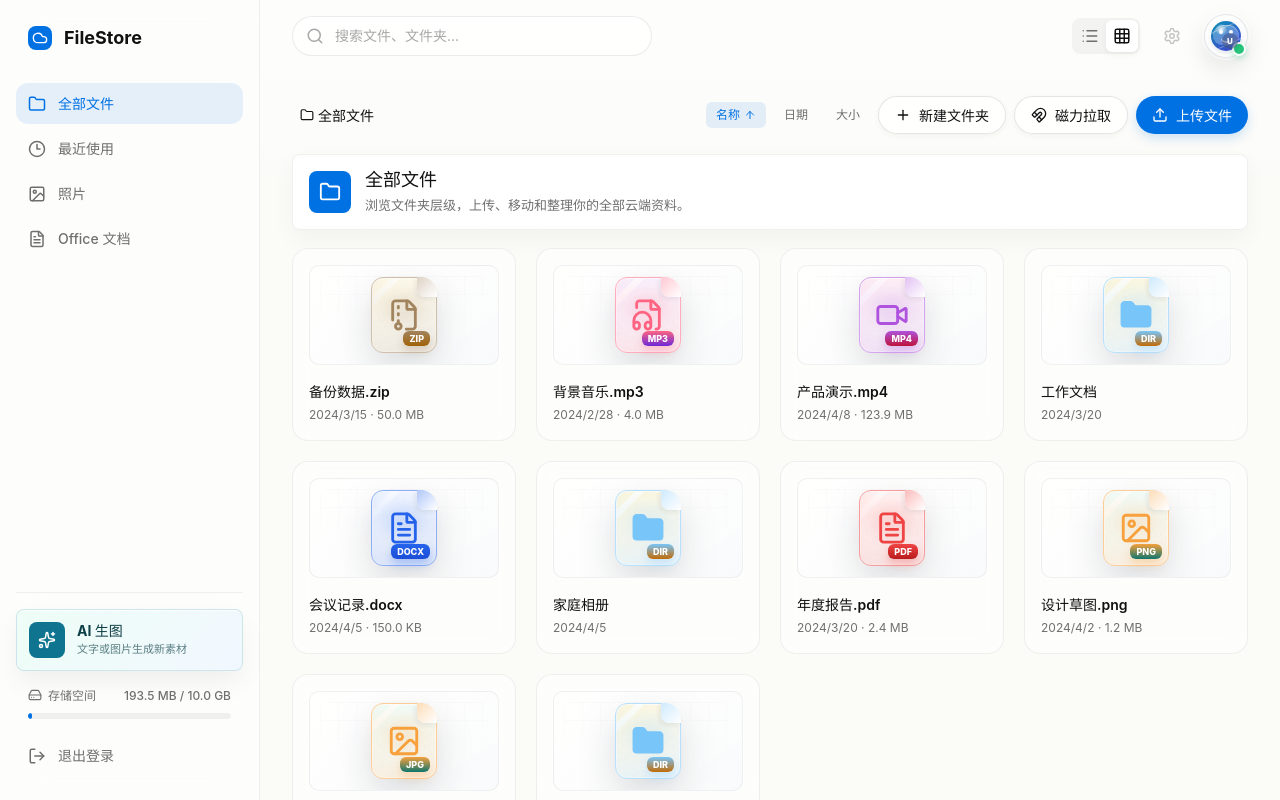
it: FileManagerPage › opens upload dialog
The image size is (1280, 800).
Expected: the text "工作文档" is shown, [1041,383,1097,400]
Click the button "上传文件": point(1192, 115) [1136,96,1248,134]
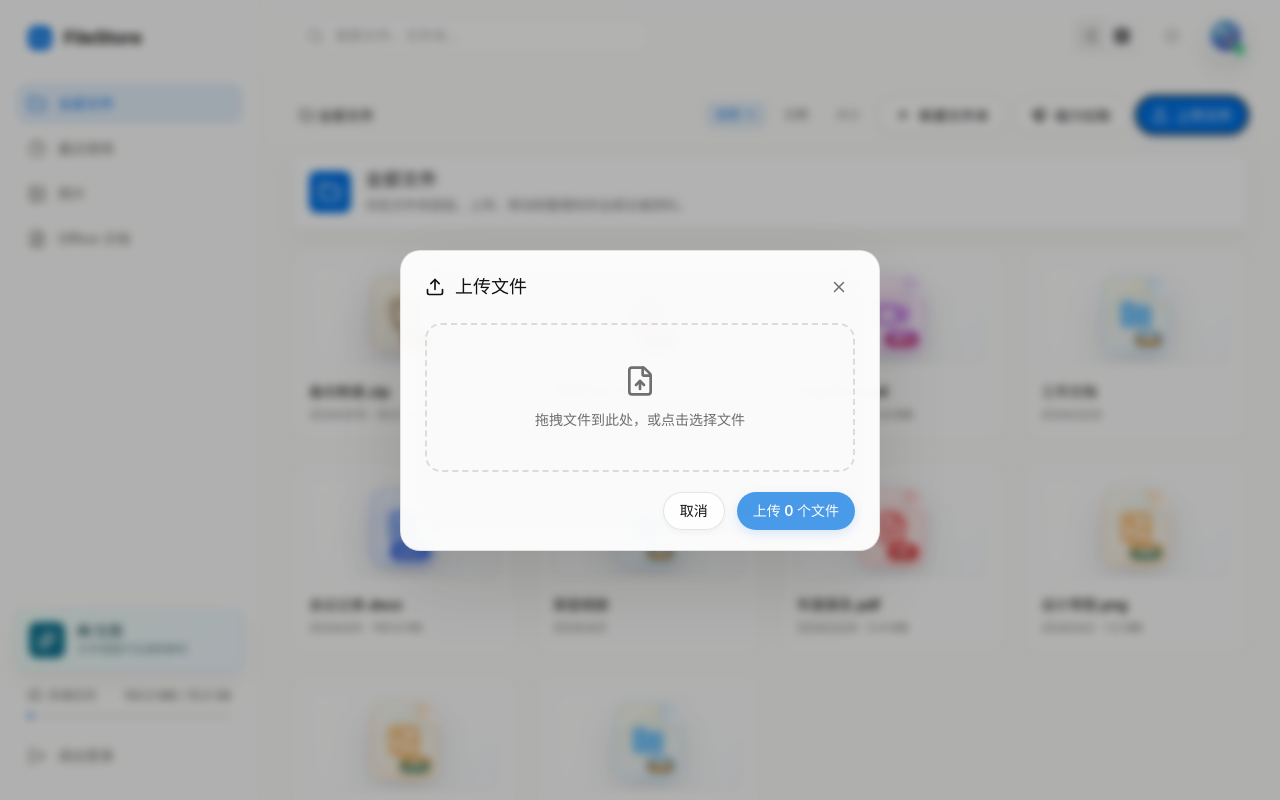
Now the dialog "上传文件" is shown, box [400,250,880,550]
